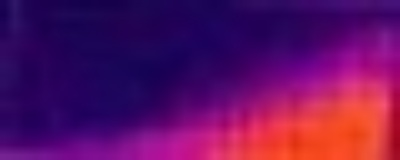Shadow: (1, 1, 231, 132), (231, 1, 400, 102), (1, 133, 177, 160)
